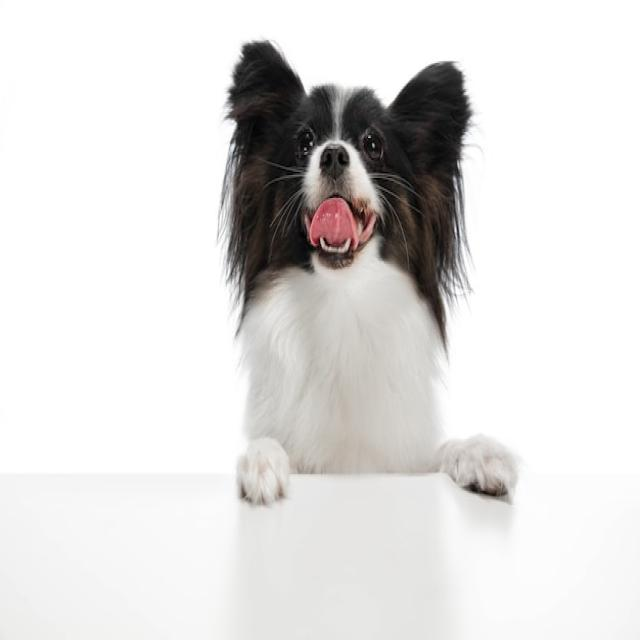Dog: (224, 40, 522, 501)
